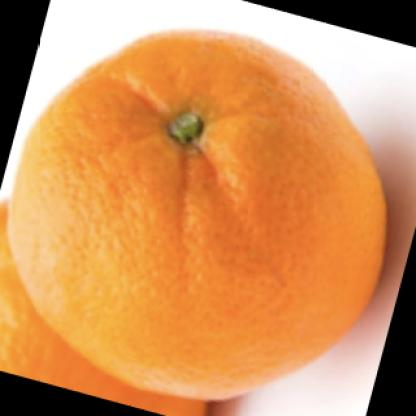fresh: (7, 30, 393, 408)
